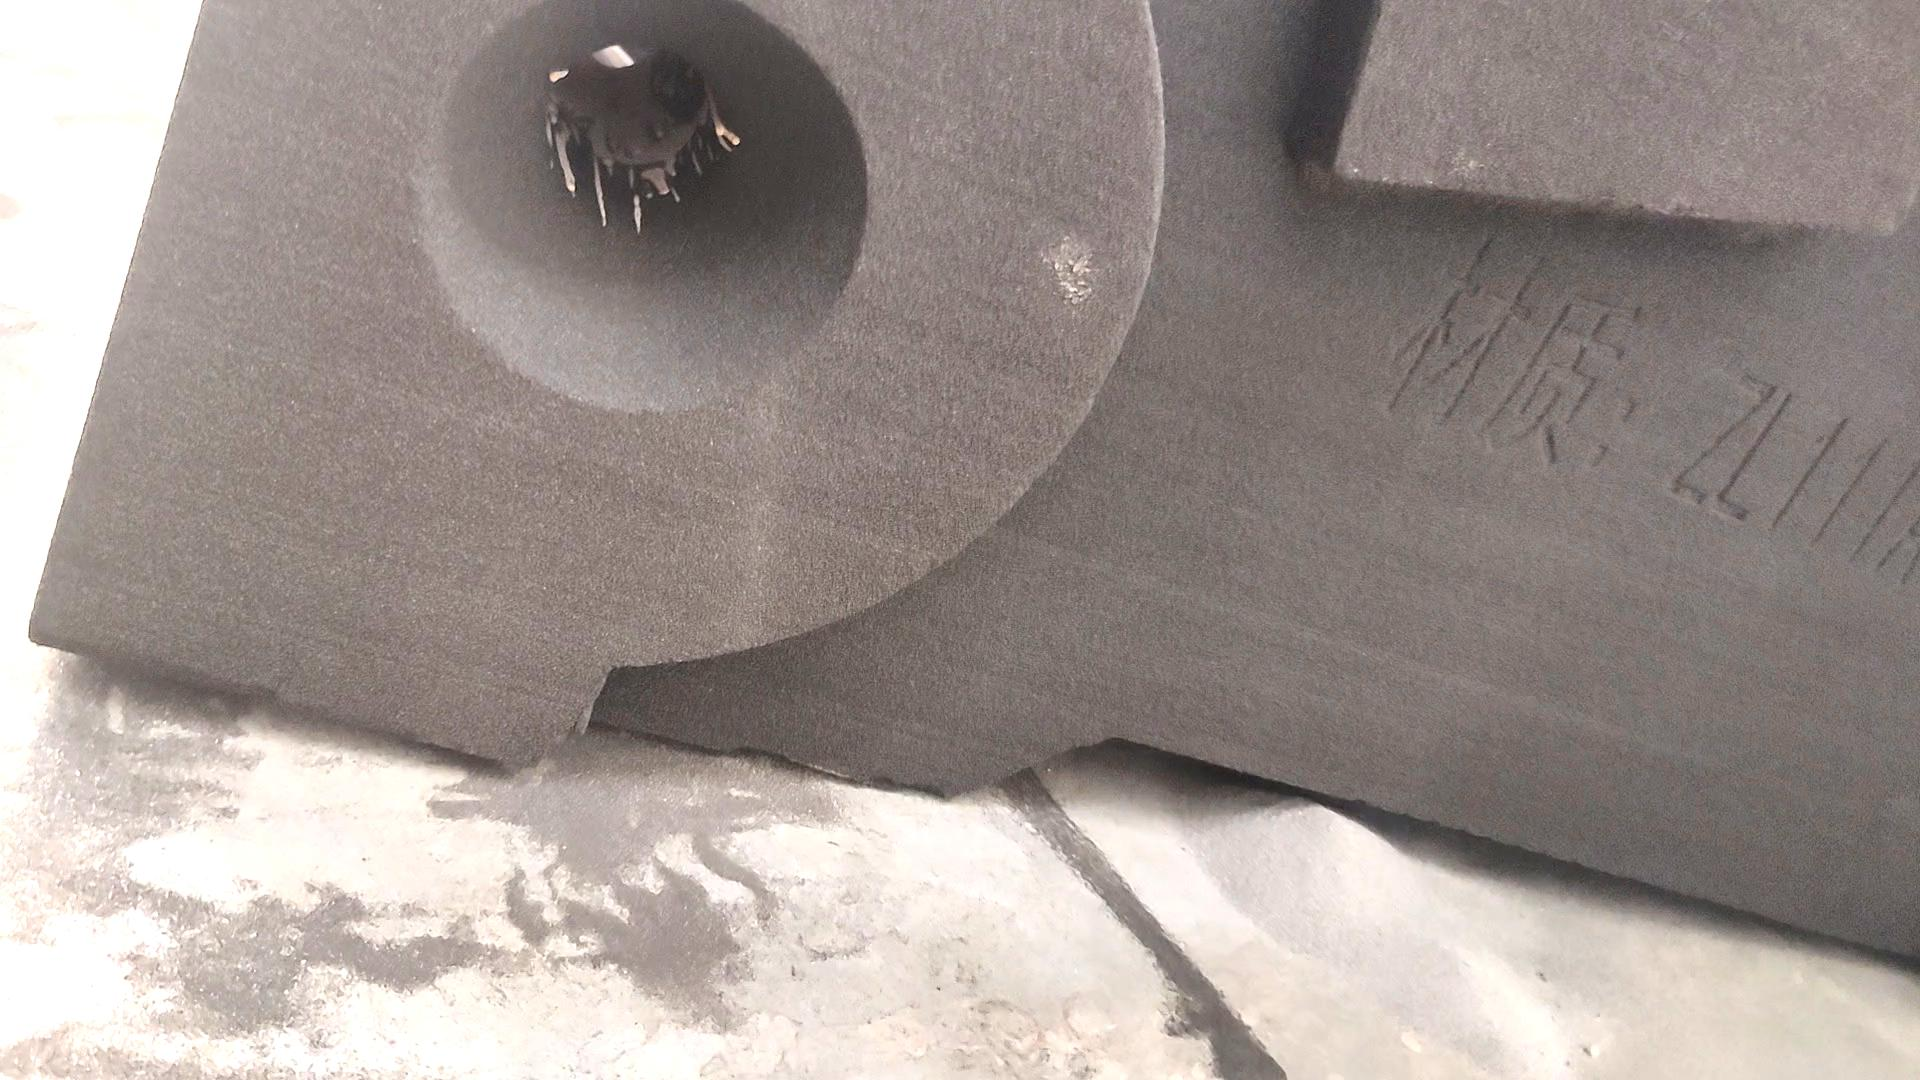pouring hole: (417, 1, 872, 417)
